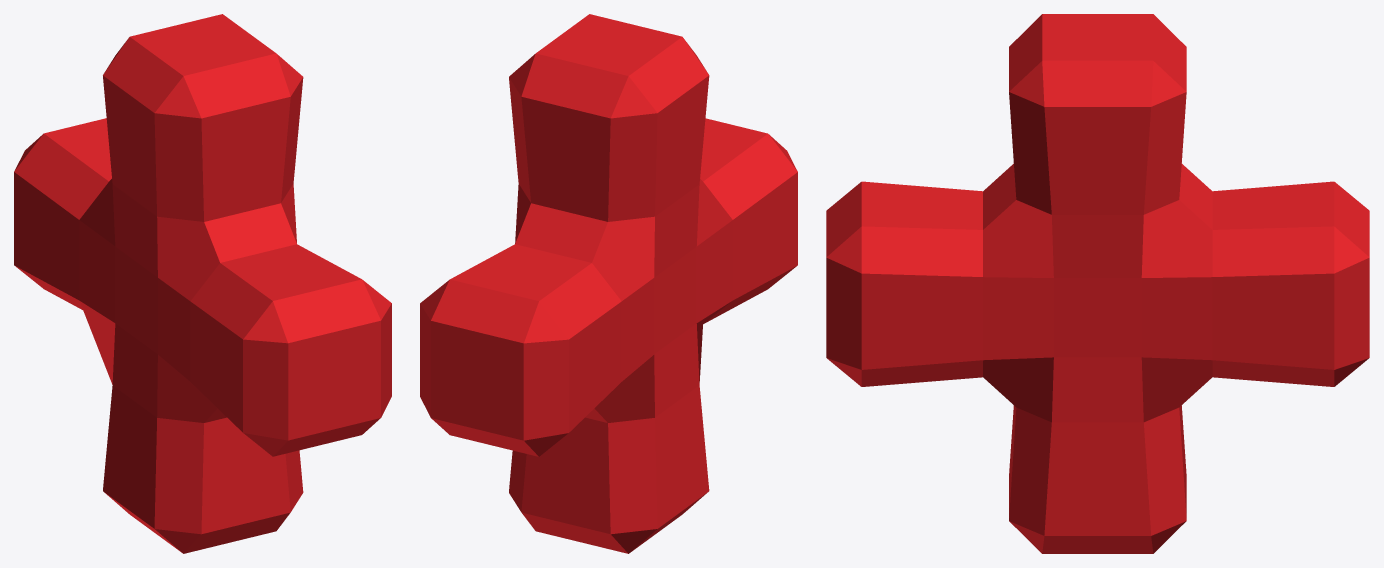
File: health cross.fbx
3 views of the same model, side by side, from view 1: azimuth 30°, elevation 25°; view 2: azimuth 150°, elevation 25°; view 3: azimuth 270°, elevation 25° (orthographic). The views are drawn at different scales.
Parts seen in each view (by area): view 1: Cube; view 2: Cube; view 3: Cube.
Part boxes in pixels (x1,y1,x2,y2): Cube: [14, 14, 391, 553]; Cube: [420, 14, 797, 553]; Cube: [826, 14, 1369, 553].
Bounding box in the file's own units: 599 × 195 × 599.
